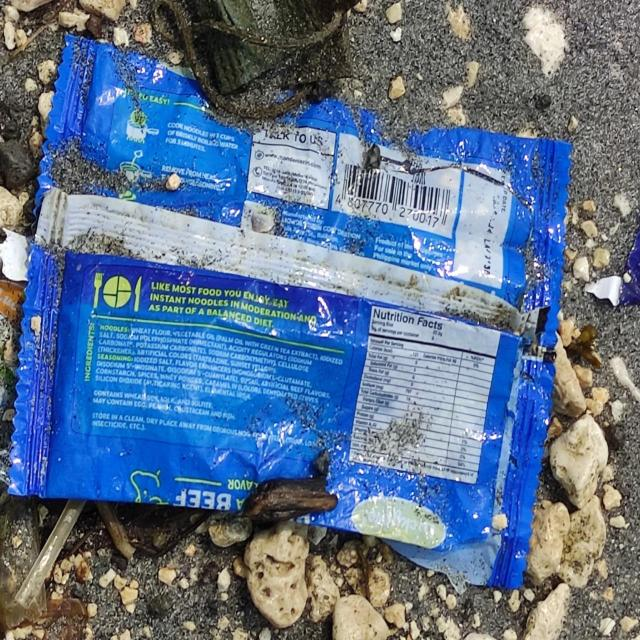plastic_waste: (8, 35, 574, 592)
